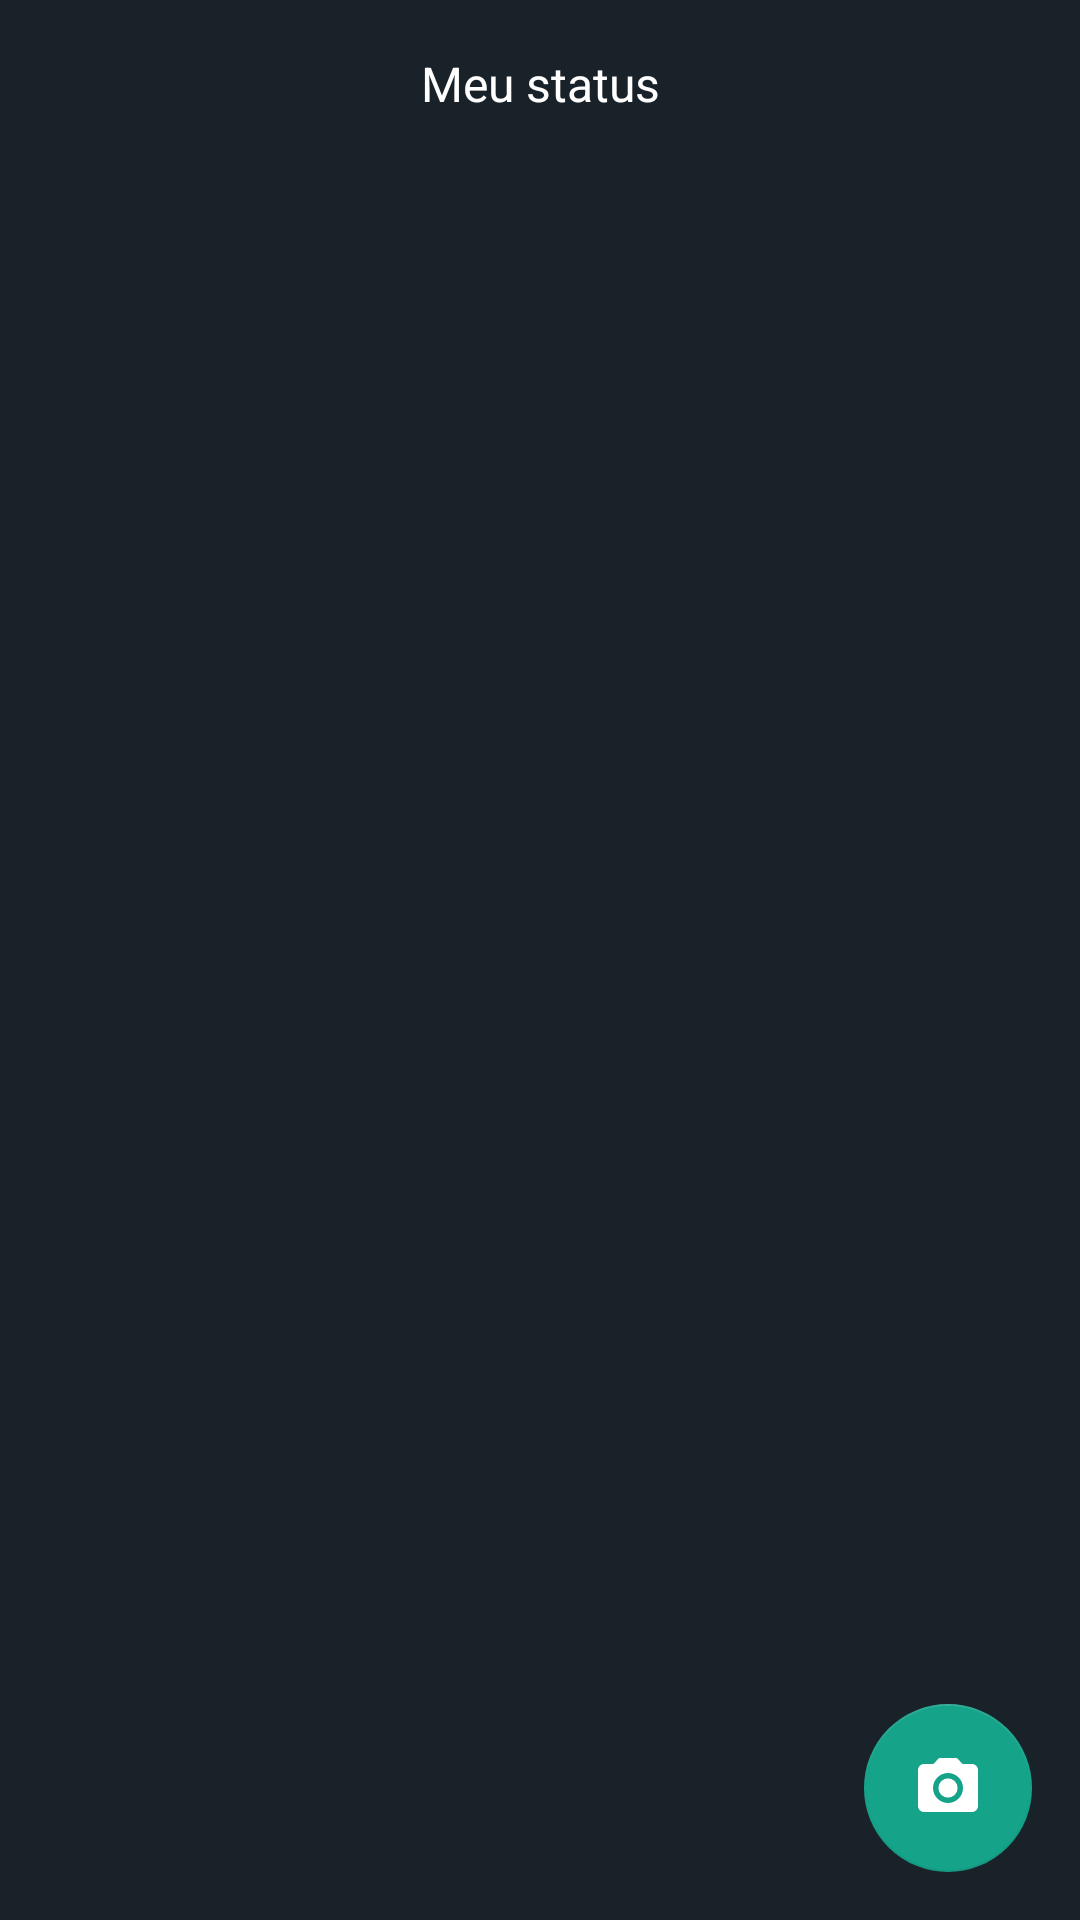

Where to tap for icons on this 1080px×1920px app screen, as [x,y]:
photo: [948,1788]
